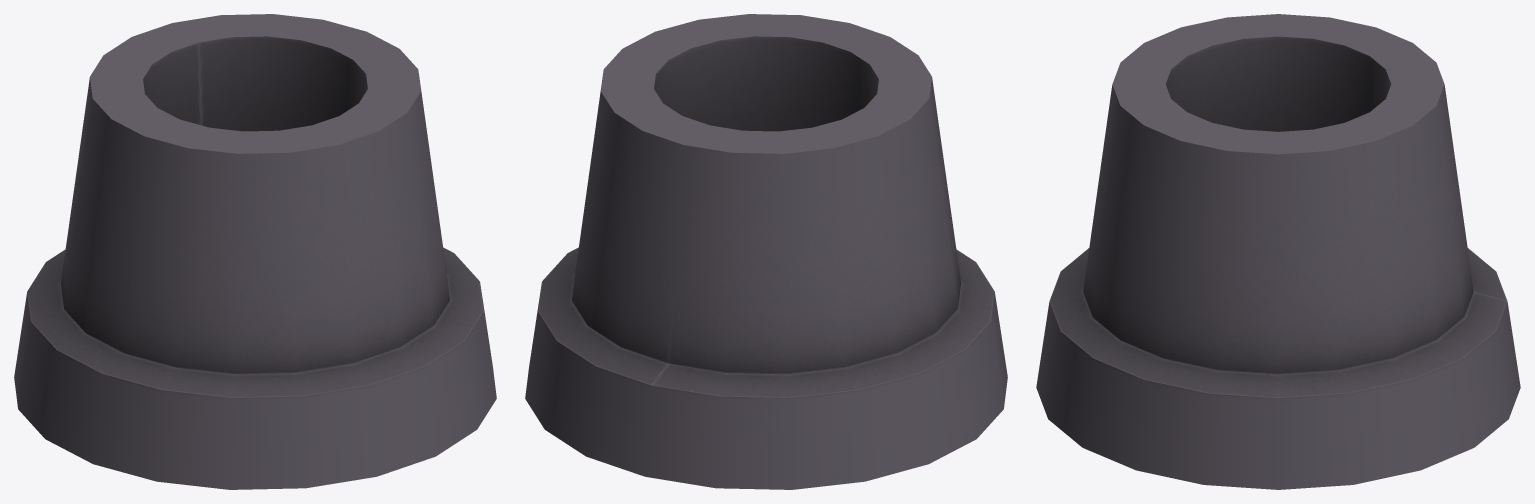
File: decoBarrel.fbx
The picture shows the model from 3 angles, left to right: view 1: azimuth 30°, elevation 25°; view 2: azimuth 150°, elevation 25°; view 3: azimuth 270°, elevation 25°; orthographic projection.
Parts seen in each view (by area): view 1: decoBarrel; view 2: decoBarrel; view 3: decoBarrel.
Part boxes in pixels (x1=…): decoBarrel: x1=14, y1=14, x2=496, y2=489; decoBarrel: x1=525, y1=14, x2=1007, y2=489; decoBarrel: x1=1036, y1=14, x2=1520, y2=489.
Size of the model in its own units: 1 by 0.6931 by 1.
